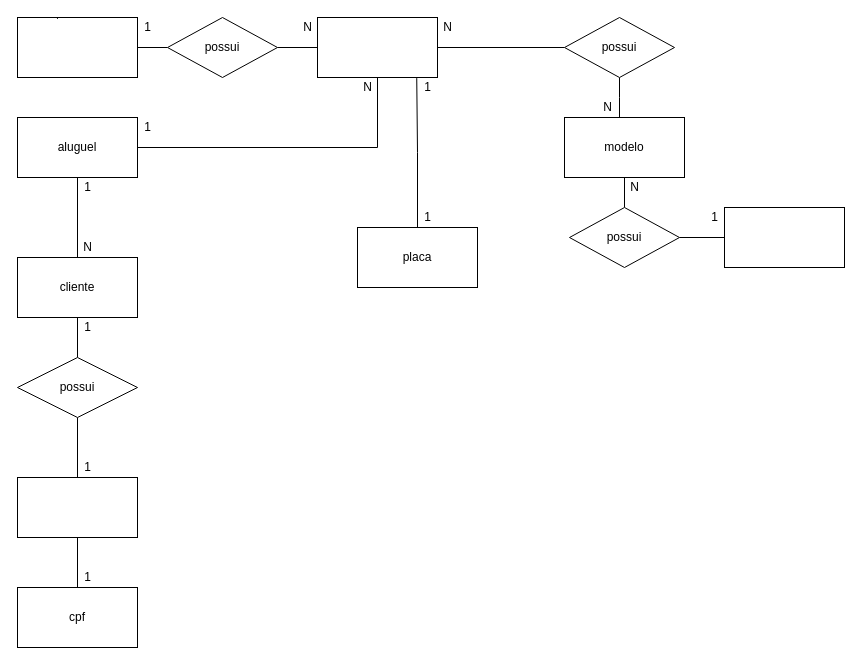
This 862x665 diagram has some shape labels left out. The centre of each missing label's shape, as x and y in pixels:
"locadora" belongs at point 77,47.
"marca" belongs at point 784,237.
"nome" belongs at point 77,507.
"veiculos" belongs at point 377,47.
